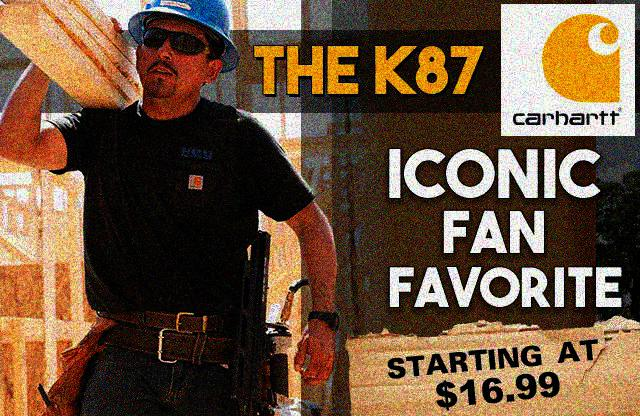helmet: (127, 1, 243, 108)
